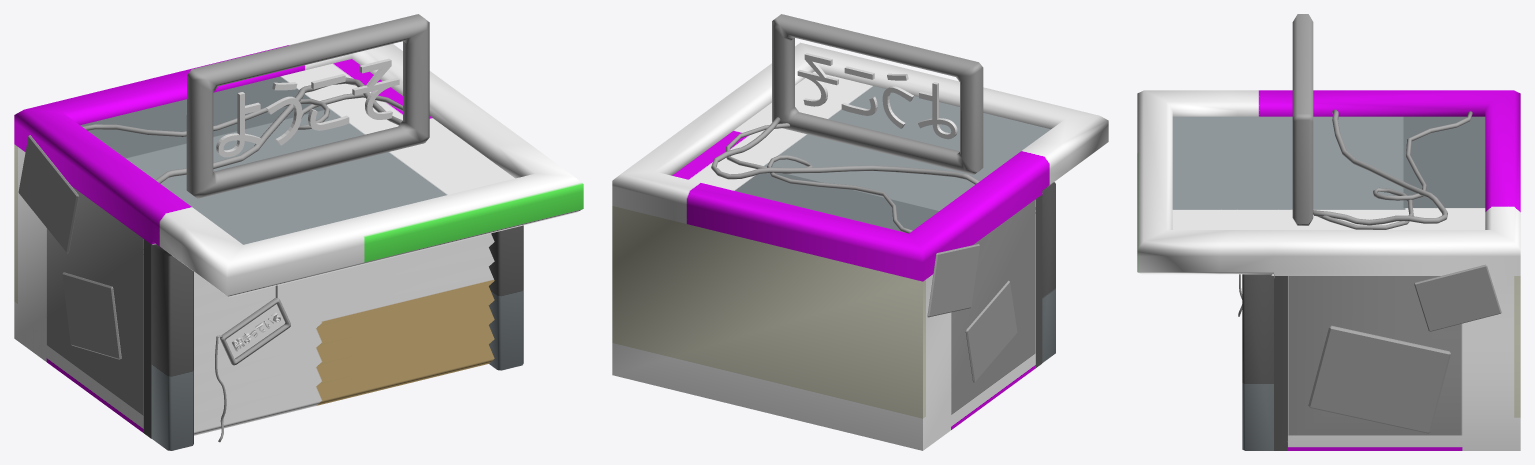
File: building.fbx
The picture shows the model from 3 angles, left to right: view 1: azimuth 30°, elevation 25°; view 2: azimuth 150°, elevation 25°; view 3: azimuth 270°, elevation 25°; orthographic projection. The views are drawn at different scales.
Visible parts, largest first — view 1: building, metal_parts_building, neon_billboard, closed; view 2: building, neon_billboard, metal_parts_building; view 3: building, metal_parts_building, neon_billboard.
Boxes of the visible parts, left/top/right/bottom form: building: left=14, top=26, right=583, bottom=450; metal_parts_building: left=18, top=77, right=494, bottom=442; neon_billboard: left=186, top=14, right=429, bottom=198; closed: left=220, top=298, right=290, bottom=365; building: left=612, top=42, right=1108, bottom=450; neon_billboard: left=772, top=14, right=983, bottom=174; metal_parts_building: left=711, top=117, right=1017, bottom=382; building: left=1137, top=90, right=1520, bottom=450; metal_parts_building: left=1238, top=109, right=1501, bottom=433; neon_billboard: left=1292, top=14, right=1313, bottom=225.
Bounding box in the file's own units: 12.17 × 11.01 × 12.42.
